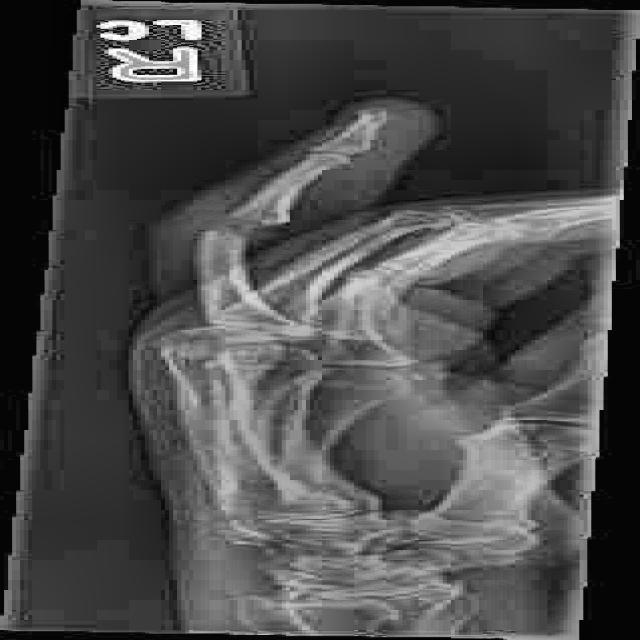fingers positive: (169, 202, 330, 249)
